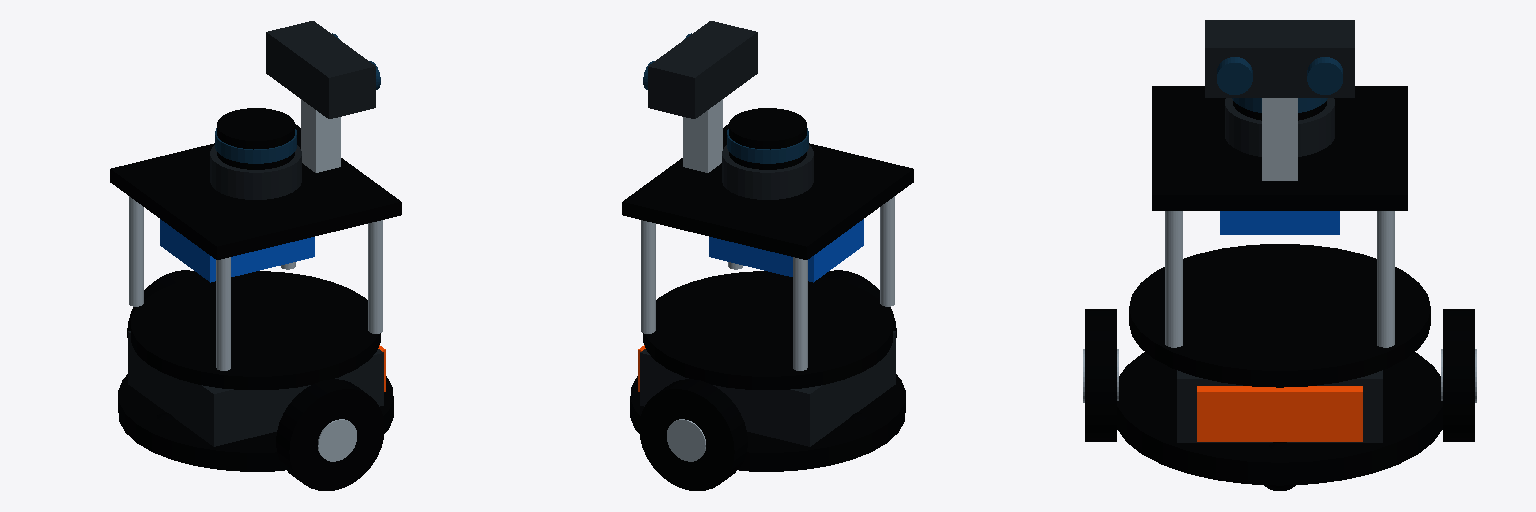
robot.urdf — turtlebot_waffle_style:
<?xml version="1.0"?>
<robot name="turtlebot_waffle_style" version="1.0">
  <material name="black">
    <color rgba="0.025 0.03 0.035 1"/>
  </material>
  <material name="dark_grey">
    <color rgba="0.12 0.14 0.16 1"/>
  </material>
  <material name="aluminium">
    <color rgba="0.62 0.67 0.71 1"/>
  </material>
  <material name="blue">
    <color rgba="0.05 0.38 0.78 1"/>
  </material>
  <material name="orange">
    <color rgba="1 0.34 0.04 1"/>
  </material>
  <material name="glass">
    <color rgba="0.08 0.22 0.32 0.75"/>
  </material>

  <link name="base_link">
    <inertial>
      <origin xyz="0 0 0.082" rpy="0 0 0"/>
      <mass value="2.8"/>
      <inertia
        ixx="0.024"
        ixy="0"
        ixz="0"
        iyy="0.024"
        iyz="0"
        izz="0.041"/>
    </inertial>

    <visual name="lower_deck">
      <origin xyz="0 0 0.035" rpy="0 0 0"/>
      <geometry>
        <cylinder radius="0.165" length="0.025"/>
      </geometry>
      <material name="black"/>
    </visual>

    <visual name="centre_body">
      <origin xyz="0 0 0.082" rpy="0 0 0"/>
      <geometry>
        <box size="0.235 0.205 0.07"/>
      </geometry>
      <material name="dark_grey"/>
    </visual>

    <visual name="front_panel">
      <origin xyz="0.123 0 0.082" rpy="0 0 0"/>
      <geometry>
        <box size="0.018 0.165 0.055"/>
      </geometry>
      <material name="orange"/>
    </visual>

    <visual name="upper_deck">
      <origin xyz="0 0 0.132" rpy="0 0 0"/>
      <geometry>
        <cylinder radius="0.15" length="0.018"/>
      </geometry>
      <material name="black"/>
    </visual>

    <collision>
      <origin xyz="0 0 0.075" rpy="0 0 0"/>
      <geometry>
        <cylinder radius="0.17" length="0.15"/>
      </geometry>
    </collision>
  </link>

  <link name="left_wheel">
    <inertial>
      <origin xyz="0 0 0" rpy="0 0 0"/>
      <mass value="0.23"/>
      <inertia
        ixx="0.00042"
        ixy="0"
        ixz="0"
        iyy="0.00072"
        iyz="0"
        izz="0.00042"/>
    </inertial>

    <visual name="left_tyre">
      <origin xyz="0 0 0" rpy="1.5708 0 0"/>
      <geometry>
        <cylinder radius="0.066" length="0.032"/>
      </geometry>
      <material name="black"/>
    </visual>

    <visual name="left_hub">
      <origin xyz="0 0 0" rpy="1.5708 0 0"/>
      <geometry>
        <cylinder radius="0.027" length="0.036"/>
      </geometry>
      <material name="aluminium"/>
    </visual>

    <collision>
      <origin xyz="0 0 0" rpy="1.5708 0 0"/>
      <geometry>
        <cylinder radius="0.066" length="0.032"/>
      </geometry>
    </collision>
  </link>

  <link name="right_wheel">
    <inertial>
      <origin xyz="0 0 0" rpy="0 0 0"/>
      <mass value="0.23"/>
      <inertia
        ixx="0.00042"
        ixy="0"
        ixz="0"
        iyy="0.00072"
        iyz="0"
        izz="0.00042"/>
    </inertial>

    <visual name="right_tyre">
      <origin xyz="0 0 0" rpy="1.5708 0 0"/>
      <geometry>
        <cylinder radius="0.066" length="0.032"/>
      </geometry>
      <material name="black"/>
    </visual>

    <visual name="right_hub">
      <origin xyz="0 0 0" rpy="1.5708 0 0"/>
      <geometry>
        <cylinder radius="0.027" length="0.036"/>
      </geometry>
      <material name="aluminium"/>
    </visual>

    <collision>
      <origin xyz="0 0 0" rpy="1.5708 0 0"/>
      <geometry>
        <cylinder radius="0.066" length="0.032"/>
      </geometry>
    </collision>
  </link>

  <link name="front_caster">
    <inertial>
      <origin xyz="0 0 0" rpy="0 0 0"/>
      <mass value="0.05"/>
      <inertia
        ixx="0.00004"
        ixy="0"
        ixz="0"
        iyy="0.00004"
        iyz="0"
        izz="0.00004"/>
    </inertial>

    <visual>
      <origin xyz="0 0 0" rpy="0 0 0"/>
      <geometry>
        <sphere radius="0.025"/>
      </geometry>
      <material name="black"/>
    </visual>

    <collision>
      <origin xyz="0 0 0" rpy="0 0 0"/>
      <geometry>
        <sphere radius="0.025"/>
      </geometry>
    </collision>
  </link>

  <link name="rear_caster">
    <inertial>
      <origin xyz="0 0 0" rpy="0 0 0"/>
      <mass value="0.05"/>
      <inertia
        ixx="0.00004"
        ixy="0"
        ixz="0"
        iyy="0.00004"
        iyz="0"
        izz="0.00004"/>
    </inertial>

    <visual>
      <origin xyz="0 0 0" rpy="0 0 0"/>
      <geometry>
        <sphere radius="0.025"/>
      </geometry>
      <material name="black"/>
    </visual>

    <collision>
      <origin xyz="0 0 0" rpy="0 0 0"/>
      <geometry>
        <sphere radius="0.025"/>
      </geometry>
    </collision>
  </link>

  <link name="sensor_platform">
    <inertial>
      <origin xyz="0 0 0.082" rpy="0 0 0"/>
      <mass value="0.62"/>
      <inertia
        ixx="0.0042"
        ixy="0"
        ixz="0"
        iyy="0.0042"
        iyz="0"
        izz="0.0068"/>
    </inertial>

    <visual name="left_front_post">
      <origin xyz="0.105 0.105 0.08" rpy="0 0 0"/>
      <geometry>
        <cylinder radius="0.009" length="0.16"/>
      </geometry>
      <material name="aluminium"/>
    </visual>

    <visual name="right_front_post">
      <origin xyz="0.105 -0.105 0.08" rpy="0 0 0"/>
      <geometry>
        <cylinder radius="0.009" length="0.16"/>
      </geometry>
      <material name="aluminium"/>
    </visual>

    <visual name="left_rear_post">
      <origin xyz="-0.105 0.105 0.08" rpy="0 0 0"/>
      <geometry>
        <cylinder radius="0.009" length="0.16"/>
      </geometry>
      <material name="aluminium"/>
    </visual>

    <visual name="right_rear_post">
      <origin xyz="-0.105 -0.105 0.08" rpy="0 0 0"/>
      <geometry>
        <cylinder radius="0.009" length="0.16"/>
      </geometry>
      <material name="aluminium"/>
    </visual>

    <visual name="top_plate">
      <origin xyz="0 0 0.165" rpy="0 0 0"/>
      <geometry>
        <box size="0.255 0.255 0.018"/>
      </geometry>
      <material name="black"/>
    </visual>

    <visual name="electronics">
      <origin xyz="-0.025 0 0.12" rpy="0 0 0"/>
      <geometry>
        <box size="0.145 0.12 0.055"/>
      </geometry>
      <material name="blue"/>
    </visual>

    <collision>
      <origin xyz="0 0 0.165" rpy="0 0 0"/>
      <geometry>
        <box size="0.255 0.255 0.018"/>
      </geometry>
    </collision>
  </link>

  <link name="lidar_link">
    <inertial>
      <origin xyz="0 0 0.038" rpy="0 0 0"/>
      <mass value="0.16"/>
      <inertia
        ixx="0.00023"
        ixy="0"
        ixz="0"
        iyy="0.00023"
        iyz="0"
        izz="0.00036"/>
    </inertial>

    <visual name="lidar_base">
      <origin xyz="0 0 0.018" rpy="0 0 0"/>
      <geometry>
        <cylinder radius="0.055" length="0.036"/>
      </geometry>
      <material name="dark_grey"/>
    </visual>

    <visual name="lidar_head">
      <origin xyz="0 0 0.054" rpy="0 0 0"/>
      <geometry>
        <cylinder radius="0.047" length="0.04"/>
      </geometry>
      <material name="black"/>
    </visual>

    <visual name="lidar_window">
      <origin xyz="0 0 0.054" rpy="0 0 0"/>
      <geometry>
        <cylinder radius="0.049" length="0.018"/>
      </geometry>
      <material name="glass"/>
    </visual>

    <collision>
      <origin xyz="0 0 0.038" rpy="0 0 0"/>
      <geometry>
        <cylinder radius="0.055" length="0.076"/>
      </geometry>
    </collision>
  </link>

  <link name="camera_mount">
    <inertial>
      <origin xyz="0 0 0.055" rpy="0 0 0"/>
      <mass value="0.08"/>
      <inertia
        ixx="0.00012"
        ixy="0"
        ixz="0"
        iyy="0.00012"
        iyz="0"
        izz="0.00003"/>
    </inertial>

    <visual>
      <origin xyz="0 0 0.055" rpy="0 0 0"/>
      <geometry>
        <box size="0.035 0.035 0.11"/>
      </geometry>
      <material name="aluminium"/>
    </visual>

    <collision>
      <origin xyz="0 0 0.055" rpy="0 0 0"/>
      <geometry>
        <box size="0.035 0.035 0.11"/>
      </geometry>
    </collision>
  </link>

  <link name="camera_link">
    <inertial>
      <origin xyz="0 0 0" rpy="0 0 0"/>
      <mass value="0.14"/>
      <inertia
        ixx="0.00015"
        ixy="0"
        ixz="0"
        iyy="0.00022"
        iyz="0"
        izz="0.00024"/>
    </inertial>

    <visual name="camera_body">
      <origin xyz="0 0 0" rpy="0 0 0"/>
      <geometry>
        <box size="0.065 0.15 0.055"/>
      </geometry>
      <material name="dark_grey"/>
    </visual>

    <visual name="left_lens">
      <origin xyz="0.037 0.045 0" rpy="0 1.5708 0"/>
      <geometry>
        <cylinder radius="0.018" length="0.018"/>
      </geometry>
      <material name="glass"/>
    </visual>

    <visual name="right_lens">
      <origin xyz="0.037 -0.045 0" rpy="0 1.5708 0"/>
      <geometry>
        <cylinder radius="0.018" length="0.018"/>
      </geometry>
      <material name="glass"/>
    </visual>

    <collision>
      <origin xyz="0 0 0" rpy="0 0 0"/>
      <geometry>
        <box size="0.065 0.15 0.055"/>
      </geometry>
    </collision>
  </link>

  <link name="imu_link">
    <inertial>
      <origin xyz="0 0 0" rpy="0 0 0"/>
      <mass value="0.03"/>
      <inertia
        ixx="0.00001"
        ixy="0"
        ixz="0"
        iyy="0.00001"
        iyz="0"
        izz="0.00001"/>
    </inertial>

    <visual>
      <origin xyz="0 0 0" rpy="0 0 0"/>
      <geometry>
        <box size="0.045 0.035 0.012"/>
      </geometry>
      <material name="blue"/>
    </visual>

    <collision>
      <origin xyz="0 0 0" rpy="0 0 0"/>
      <geometry>
        <box size="0.045 0.035 0.012"/>
      </geometry>
    </collision>
  </link>

  <joint name="left_wheel_joint" type="continuous">
    <parent link="base_link"/>
    <child link="left_wheel"/>
    <origin xyz="0 0.178 0.066" rpy="0 0 0"/>
    <axis xyz="0 1 0"/>
    <limit effort="8" velocity="12"/>
    <dynamics damping="0.02" friction="0.01"/>
  </joint>

  <joint name="right_wheel_joint" type="continuous">
    <parent link="base_link"/>
    <child link="right_wheel"/>
    <origin xyz="0 -0.178 0.066" rpy="0 0 0"/>
    <axis xyz="0 1 0"/>
    <limit effort="8" velocity="12"/>
    <dynamics damping="0.02" friction="0.01"/>
  </joint>

  <joint name="front_caster_joint" type="fixed">
    <parent link="base_link"/>
    <child link="front_caster"/>
    <origin xyz="0.125 0 0.025" rpy="0 0 0"/>
  </joint>

  <joint name="rear_caster_joint" type="fixed">
    <parent link="base_link"/>
    <child link="rear_caster"/>
    <origin xyz="-0.125 0 0.025" rpy="0 0 0"/>
  </joint>

  <joint name="sensor_platform_joint" type="fixed">
    <parent link="base_link"/>
    <child link="sensor_platform"/>
    <origin xyz="0 0 0.15" rpy="0 0 0"/>
  </joint>

  <joint name="lidar_joint" type="continuous">
    <parent link="sensor_platform"/>
    <child link="lidar_link"/>
    <origin xyz="0 0 0.18" rpy="0 0 0"/>
    <axis xyz="0 0 1"/>
    <limit effort="1" velocity="10"/>
    <dynamics damping="0.01" friction="0.005"/>
  </joint>

  <joint name="camera_mount_joint" type="fixed">
    <parent link="sensor_platform"/>
    <child link="camera_mount"/>
    <origin xyz="0.09 0 0.18" rpy="0 0 0"/>
  </joint>

  <joint name="camera_tilt_joint" type="revolute">
    <parent link="camera_mount"/>
    <child link="camera_link"/>
    <origin xyz="0 0 0.125" rpy="0 0 0"/>
    <axis xyz="0 1 0"/>
    <limit lower="-0.8" upper="0.45" effort="2" velocity="1.5"/>
    <dynamics damping="0.04" friction="0.015"/>
  </joint>

  <joint name="imu_joint" type="fixed">
    <parent link="base_link"/>
    <child link="imu_link"/>
    <origin xyz="-0.055 0 0.13" rpy="0 0 0"/>
  </joint>
</robot>

--- Render facts (derived) ---
3 views of the same robot in one strip: view 1: azimuth 30°, elevation 25°; view 2: azimuth 150°, elevation 25°; view 3: azimuth 270°, elevation 25° (orthographic).
Robot: turtlebot_waffle_style — 10 links, 9 joints (1 revolute, 3 continuous, 5 fixed); root link base_link; default pose: all joints at 0.
Visible links, largest first — view 1: base_link, sensor_platform, right_wheel, camera_link, lidar_link, camera_mount, left_wheel; view 2: base_link, sensor_platform, left_wheel, camera_link, lidar_link, camera_mount, right_wheel; view 3: base_link, sensor_platform, camera_link, left_wheel, right_wheel, lidar_link, camera_mount.
Boxes of the visible links, bbox=[...] form: base_link: bbox=[118, 271, 393, 471]; sensor_platform: bbox=[110, 124, 401, 370]; right_wheel: bbox=[276, 379, 384, 490]; camera_link: bbox=[266, 21, 380, 118]; lidar_link: bbox=[210, 108, 301, 199]; camera_mount: bbox=[301, 99, 340, 172]; left_wheel: bbox=[127, 270, 200, 337]; base_link: bbox=[630, 271, 905, 471]; sensor_platform: bbox=[622, 124, 913, 370]; left_wheel: bbox=[639, 379, 747, 490]; camera_link: bbox=[643, 21, 757, 118]; lidar_link: bbox=[722, 108, 813, 199]; camera_mount: bbox=[683, 99, 722, 172]; right_wheel: bbox=[823, 270, 896, 337]; base_link: bbox=[1117, 244, 1442, 485]; sensor_platform: bbox=[1152, 86, 1407, 347]; camera_link: bbox=[1205, 20, 1354, 97]; left_wheel: bbox=[1441, 309, 1476, 441]; right_wheel: bbox=[1083, 309, 1118, 441]; lidar_link: bbox=[1225, 98, 1334, 156]; camera_mount: bbox=[1262, 98, 1297, 180].
Bounding box of the posed robot: 0.33 × 0.392 × 0.4825 m (x, y, z).
Geometry: primitives only (box / cylinder / sphere), no mesh files.
